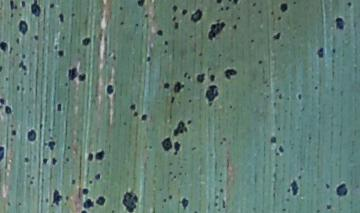tarspot: (121, 187, 140, 213), (202, 83, 221, 106), (206, 20, 226, 40), (15, 17, 32, 38), (50, 187, 65, 209), (334, 180, 350, 200), (65, 63, 79, 85), (158, 134, 173, 154), (172, 79, 184, 102), (103, 80, 118, 98), (29, 1, 44, 19), (174, 118, 187, 138), (25, 127, 39, 144), (222, 66, 239, 80), (77, 69, 91, 86), (334, 15, 347, 33), (190, 6, 202, 25), (16, 59, 29, 76), (289, 177, 299, 199), (51, 100, 65, 115), (276, 1, 291, 15), (314, 45, 326, 62), (80, 195, 94, 209), (172, 138, 183, 155), (194, 70, 207, 84), (94, 147, 105, 163), (55, 11, 67, 25), (96, 193, 107, 208), (44, 140, 59, 151), (79, 35, 92, 47), (179, 196, 191, 209), (39, 155, 51, 168), (126, 99, 138, 112), (55, 47, 68, 59), (153, 26, 166, 38), (269, 32, 284, 42), (9, 127, 19, 140), (162, 80, 172, 93), (3, 103, 13, 116), (1, 142, 7, 163), (140, 111, 149, 125), (206, 72, 217, 83), (79, 185, 91, 195), (1, 39, 9, 54), (171, 19, 181, 31), (267, 134, 279, 144), (85, 151, 94, 164), (50, 155, 59, 168), (136, 1, 150, 9), (144, 55, 154, 65), (179, 6, 190, 15), (92, 172, 103, 181), (161, 39, 172, 48), (255, 58, 266, 67), (171, 3, 179, 14), (278, 144, 286, 155), (326, 203, 334, 213), (232, 22, 237, 34), (215, 1, 225, 6)
